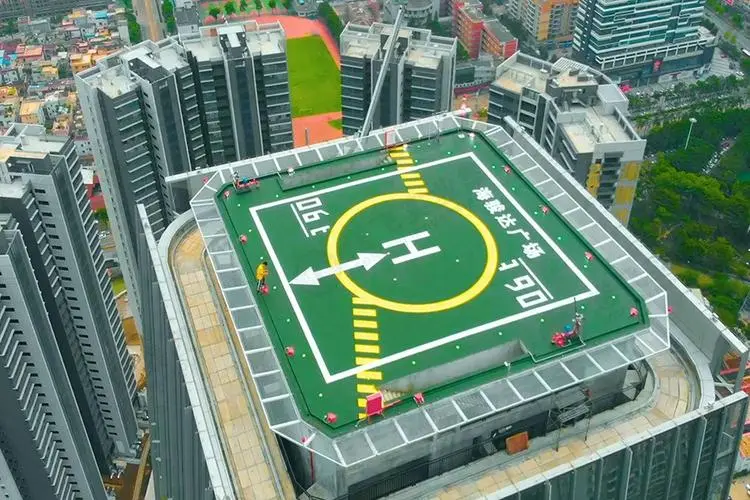Apron: (325, 193, 497, 314)
